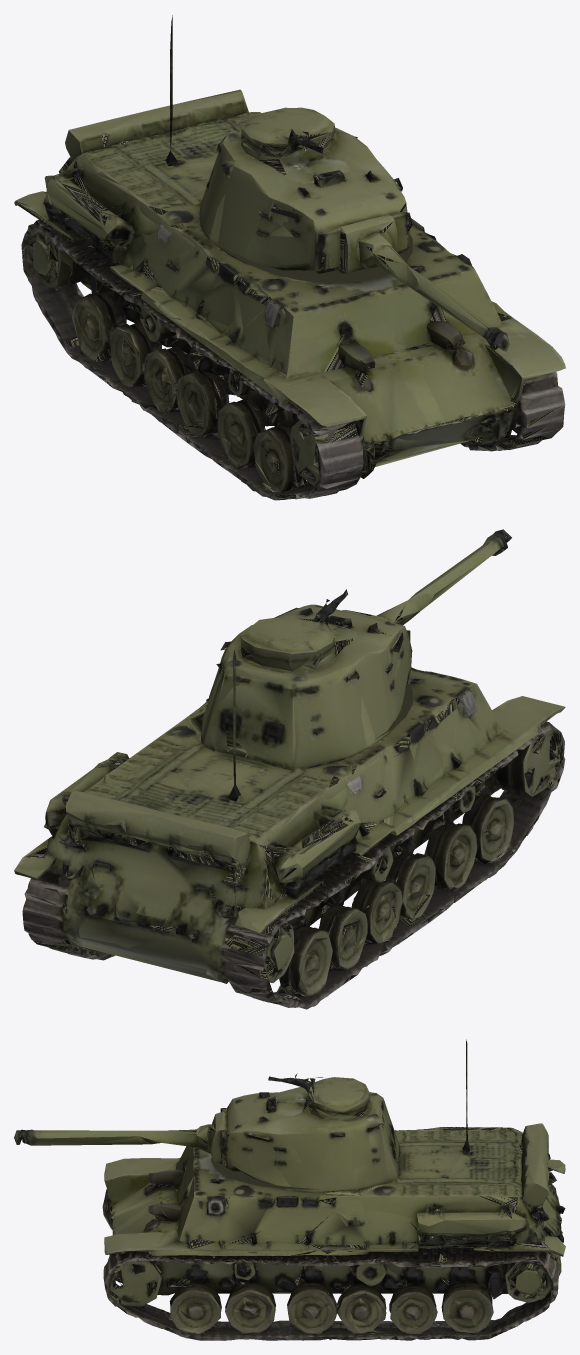
The model's file is tank_wwii.glb.
The picture shows the model from 3 angles, top to bottom: view 1: azimuth 30°, elevation 25°; view 2: azimuth 150°, elevation 25°; view 3: azimuth 270°, elevation 25°; orthographic projection. The views are drawn at different scales.
Visible parts, largest first — view 1: hull_lod, hull, turret_body, turret_body_lod, barrel_body, barrel_body_lod; view 2: hull, hull_lod, turret_body, turret_body_lod, barrel_body_lod, barrel_body; view 3: hull, hull_lod, turret_body, turret_body_lod, barrel_body, barrel_body_lod.
Part boxes in pixels (left/top/right/bottom): hull_lod: left=17, top=90, right=565, bottom=499; hull: left=14, top=15, right=565, bottom=500; turret_body: left=199, top=107, right=409, bottom=273; turret_body_lod: left=210, top=107, right=408, bottom=272; barrel_body: left=320, top=213, right=509, bottom=351; barrel_body_lod: left=324, top=214, right=507, bottom=349; hull: left=14, top=649, right=565, bottom=1009; hull_lod: left=15, top=669, right=563, bottom=1007; turret_body: left=201, top=589, right=412, bottom=767; turret_body_lod: left=202, top=594, right=410, bottom=770; barrel_body_lod: left=350, top=529, right=511, bottom=623; barrel_body: left=343, top=529, right=511, bottom=641; hull: left=102, top=1039, right=565, bottom=1340; hull_lod: left=103, top=1124, right=563, bottom=1340; turret_body: left=220, top=1073, right=398, bottom=1191; turret_body_lod: left=222, top=1078, right=399, bottom=1190; barrel_body: left=14, top=1108, right=223, bottom=1164; barrel_body_lod: left=17, top=1115, right=222, bottom=1161.
Bounding box in the file's own units: 2.93 × 3.62 × 7.29.
Materials: 1 (1 with a texture image).
